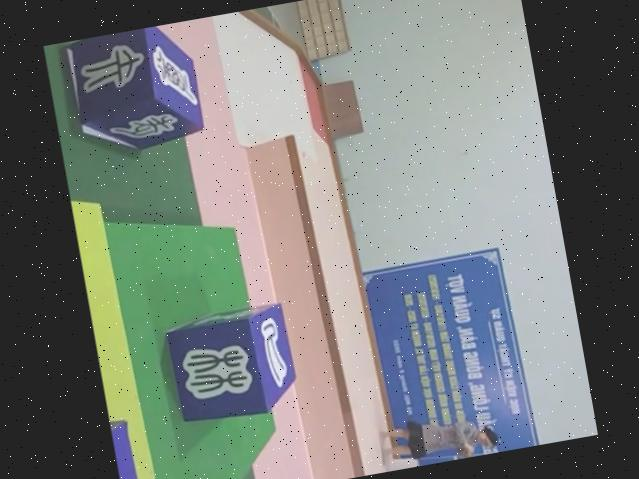R2 Fake Blue: (62, 20, 205, 158), (161, 298, 300, 428)
